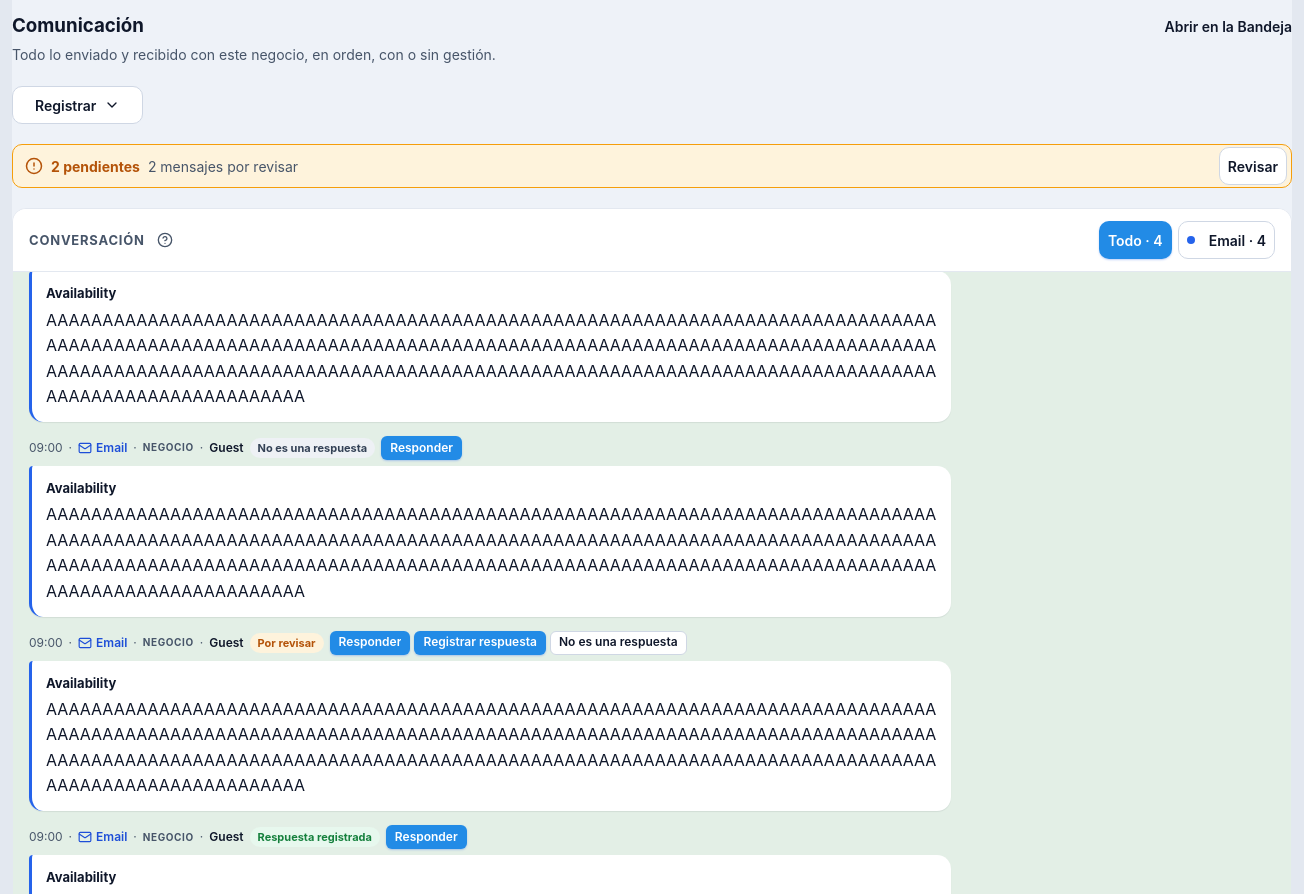
Scenario: CommunicationPanel inbound messages › shows email metadata, excerpt expansion and review status badges
This screenshot has width=1304, height=894.
(page scrolled)
Expected: the text "2 mensajes por revisar" is shown, x1=148 y1=158 x2=298 y2=175
Click the button "Revisar".
click(1253, 166)  # box x1=1219 y1=148 x2=1287 y2=186
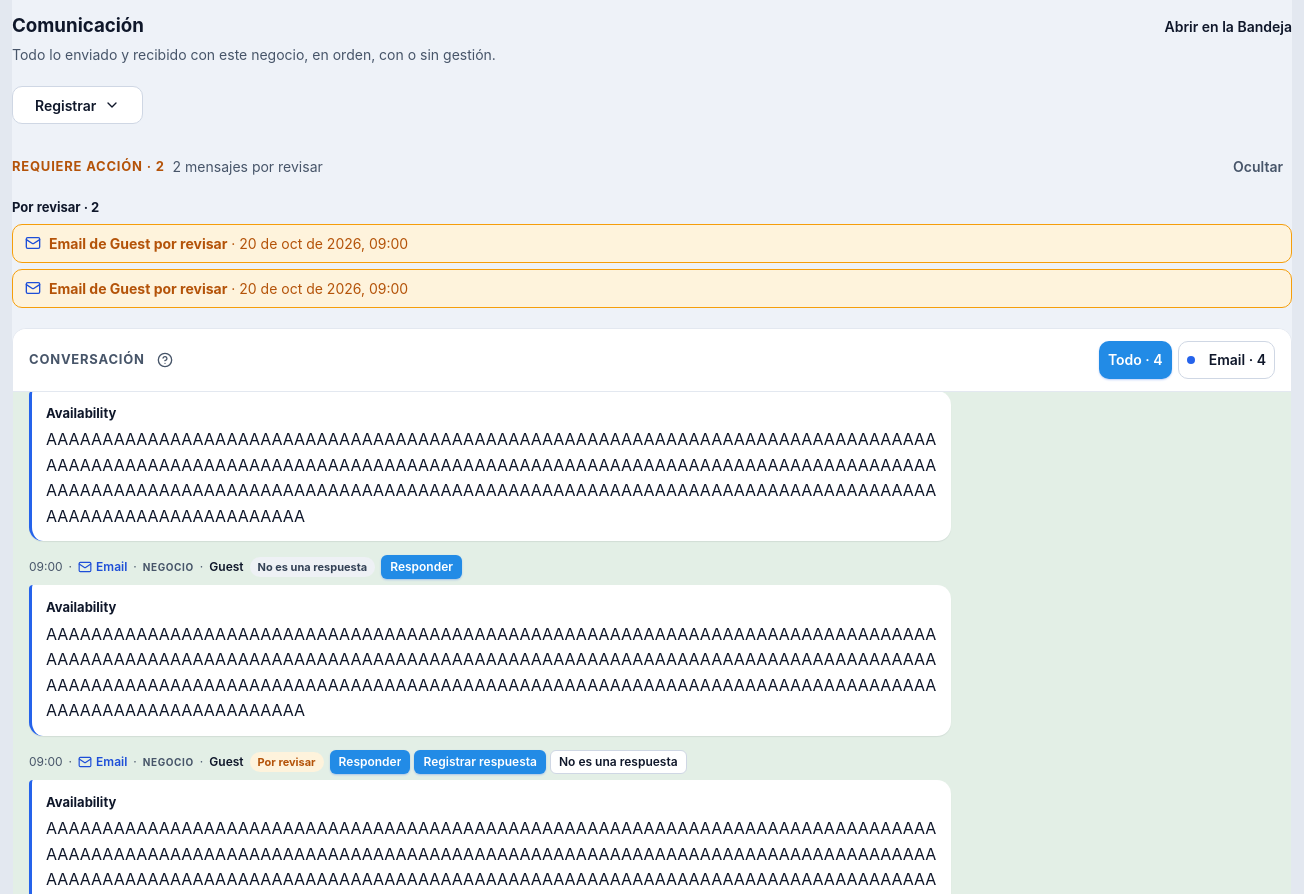
Expected: the number of buttons "Email de Guest por revisar · 20 de oct de 2026, 09:00" is 2, x1=12 y1=224 x2=1292 y2=263; x1=12 y1=269 x2=1292 y2=308
Expected: the heading "Por revisar · 2" is shown, x1=12 y1=200 x2=99 y2=216
